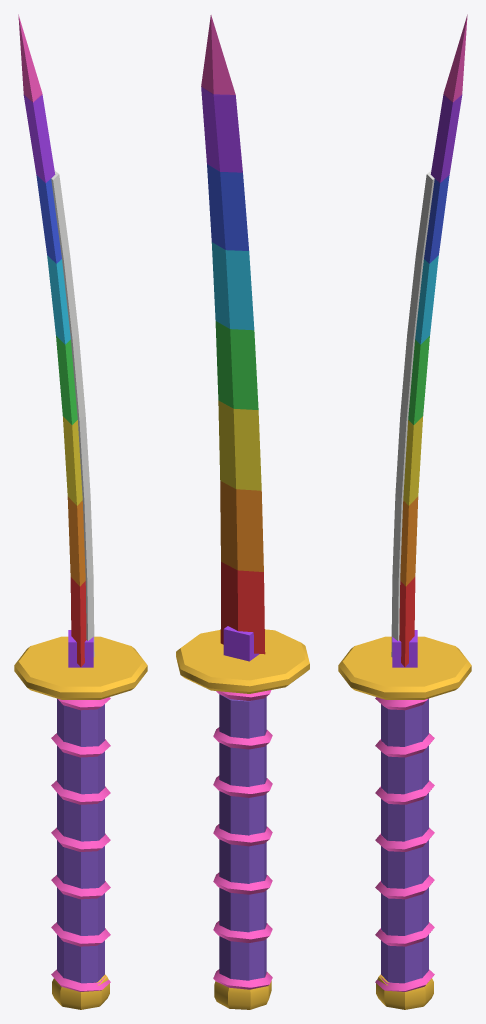
The model's file is RainbowKatana.fbx.
The picture shows the model from 3 angles, left to right: view 1: azimuth 90°, elevation 25°; view 2: azimuth 150°, elevation 25°; view 3: azimuth 270°, elevation 25°; orthographic projection. The views are drawn at different scales.
Parts seen in each view (by area): view 1: RainbowKatana; view 2: RainbowKatana; view 3: RainbowKatana.
Part boxes in pixels (left/top/right/bottom): RainbowKatana: left=14, top=14, right=147, bottom=1009; RainbowKatana: left=176, top=15, right=309, bottom=1009; RainbowKatana: left=338, top=14, right=471, bottom=1009.
Bounding box in the file's own units: 0.6087 × 5.22 × 0.64.
1 material, 1 textured.
